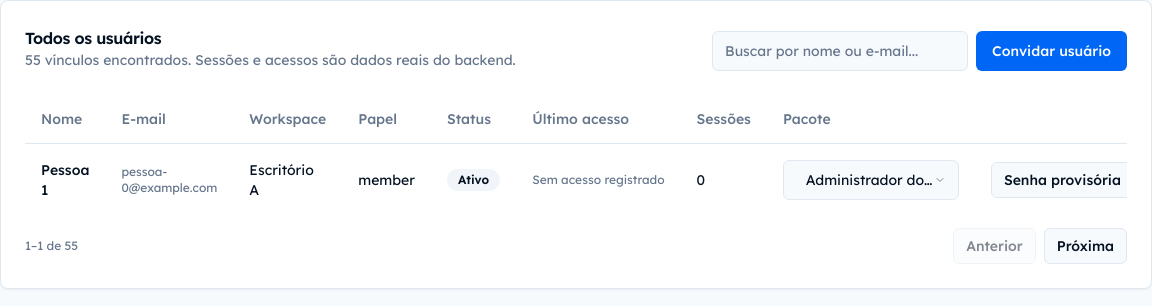
it: PlatformPeoplePanel › navigates real server-side pages
Expected: the text "Pessoa 1" is shown, [25, 143, 105, 216]
Expected: the text "1–1 de 55" is shown, [25, 238, 78, 254]
Click the button "Próxima" at (1085, 246), box [1044, 228, 1127, 264]
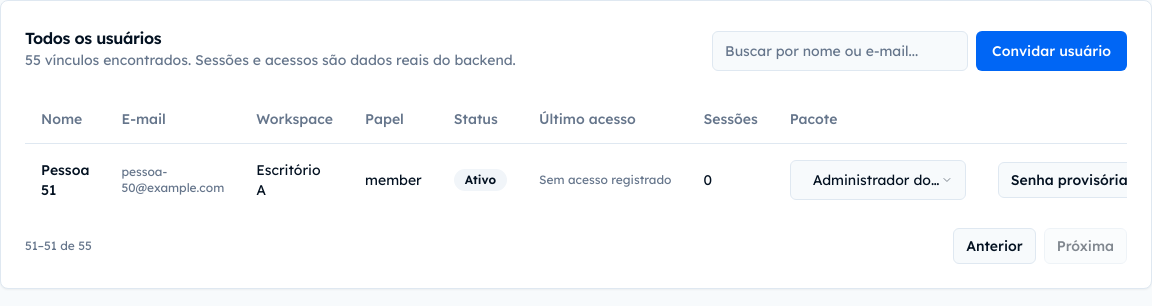
Now the text "Pessoa 51" is shown, box [25, 143, 105, 216]
Now the button "Próxima" is disabled, box [1044, 228, 1127, 264]
Now the button "Anterior" is enabled, box [953, 228, 1036, 264]
